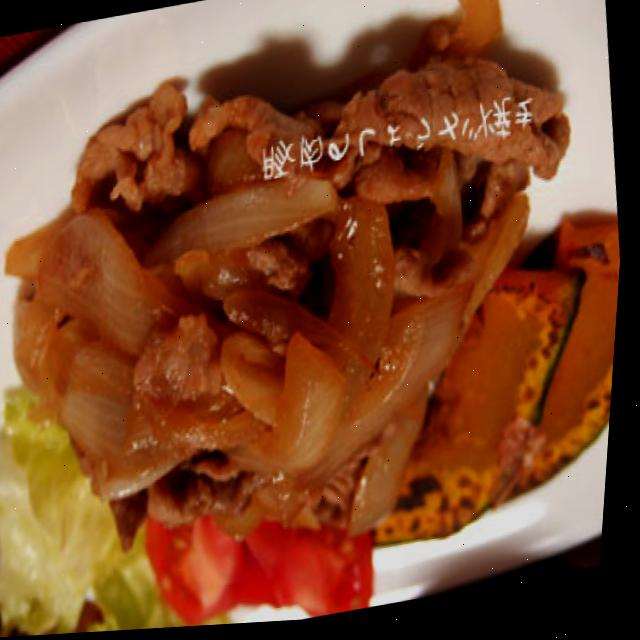猪肉菜式: (8, 160, 559, 576)
